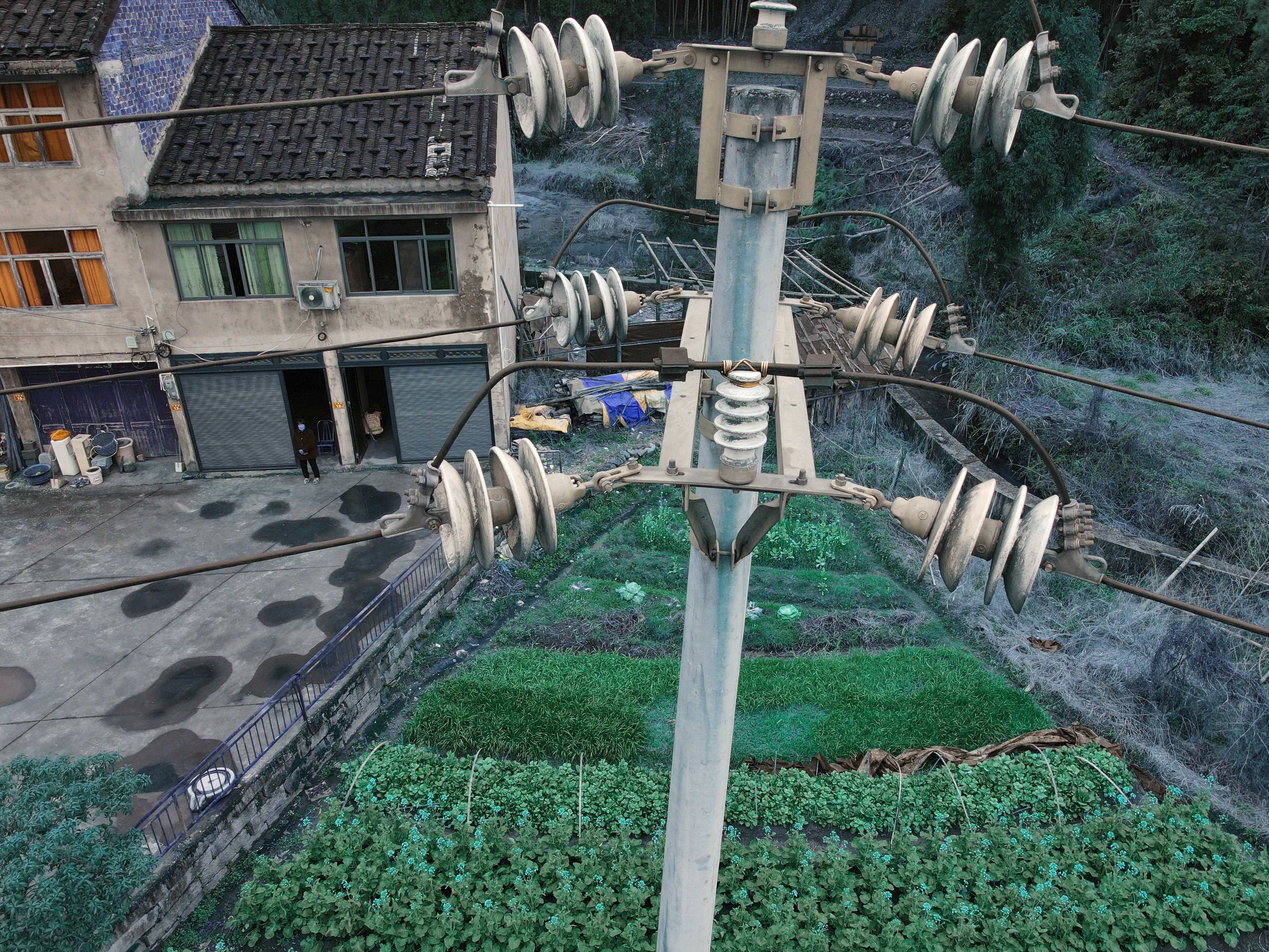severe_soiling_no_discharge_whole: (887, 465, 1060, 615), (429, 440, 588, 569), (895, 31, 1043, 165), (498, 11, 645, 141), (833, 287, 940, 378), (546, 264, 647, 346), (709, 369, 774, 482), (747, 2, 797, 50)
